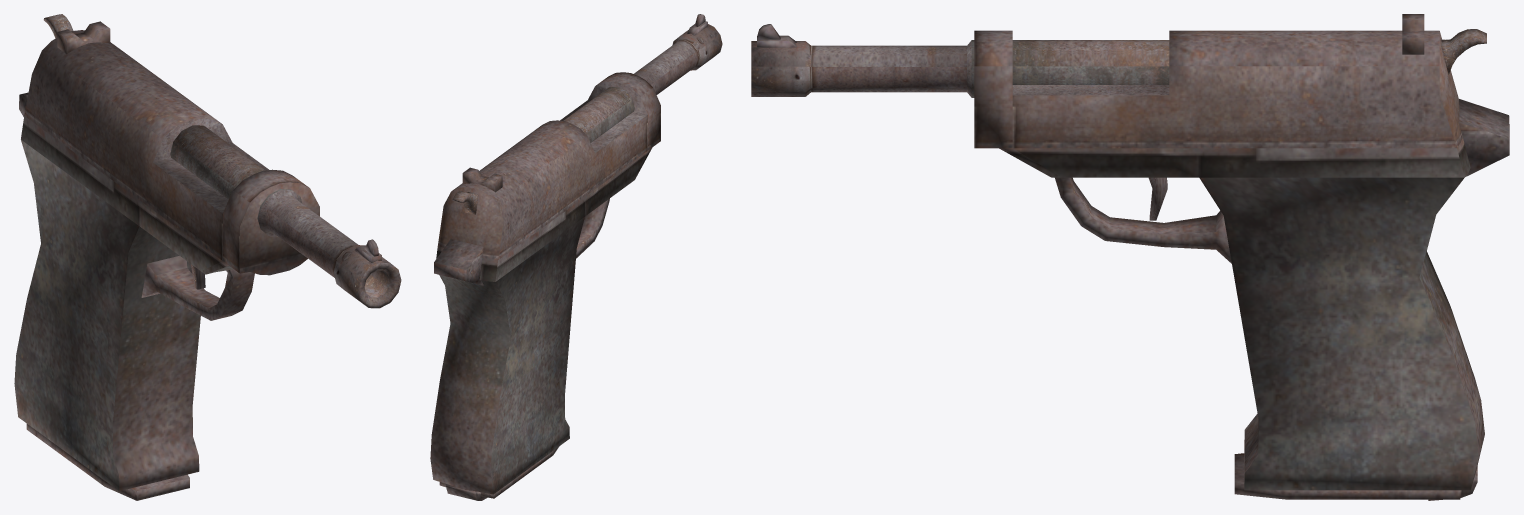
File: SM_Gun_P38_00.fbx
3 renders of one model, left to right at view 1: azimuth 30°, elevation 25°; view 2: azimuth 150°, elevation 25°; view 3: azimuth 270°, elevation 25°, orthographic. The views are drawn at different scales.
Visible parts, largest first — view 1: SM_Gun_P38_00; view 2: SM_Gun_P38_00; view 3: SM_Gun_P38_00.
Boxes of the visible parts, x1,y1,x2,y2 form: SM_Gun_P38_00: (14, 14, 401, 500); SM_Gun_P38_00: (430, 14, 722, 500); SM_Gun_P38_00: (751, 14, 1509, 500).
Size of the model in its own units: 3.83 by 19.04 by 28.15.
